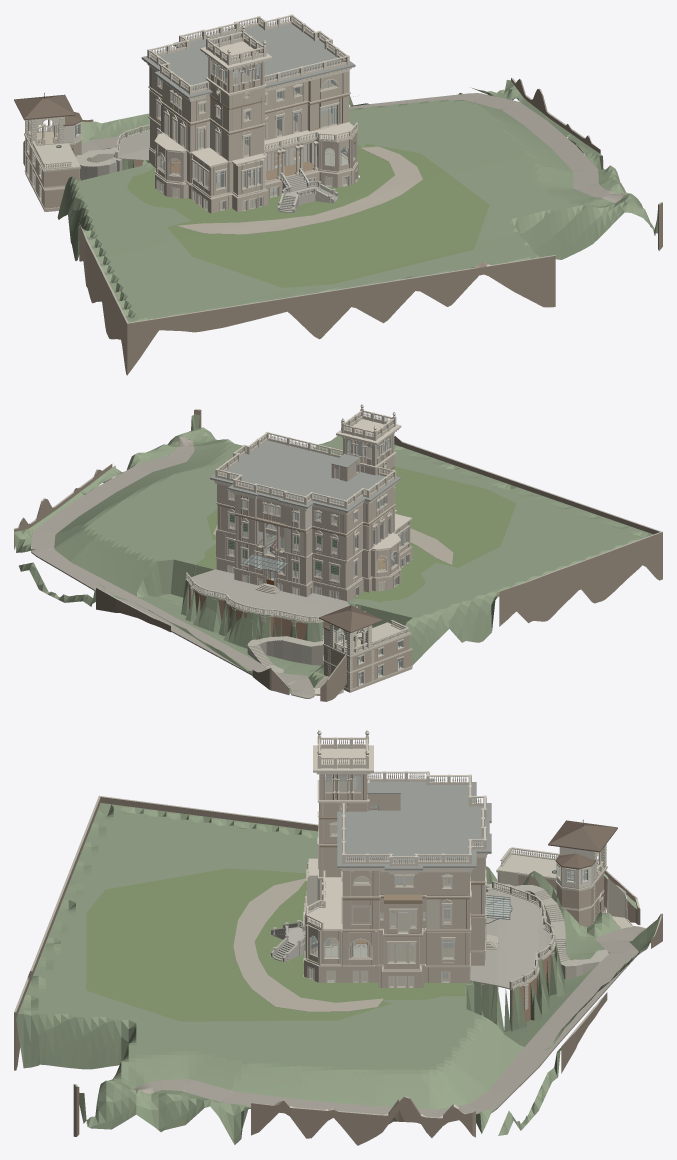
The picture shows the model from 3 angles, top to bottom: view 1: azimuth 30°, elevation 25°; view 2: azimuth 150°, elevation 25°; view 3: azimuth 270°, elevation 25°; orthographic projection. The views are drawn at different scales.
Visible parts, largest first — view 1: villa-maraini-v010-site-bounded-site-ground, villa-maraini-v008-site-lawn-and-side-ground, villa-maraini-v010-site-perimeter-retaining-wall, villa-maraini-main-roof, villa-maraini-v010-site-gate-cadore-carriageway, villa-maraini-site-agea2020-visible-garden-path, villa-maraini-portineria-main-hipped-roof, villa-maraini-v010-site-east-winding-stair-supported-core, villa-maraini-p4-terrace-4, villa-maraini-portineria-pt1-clean-exterior-wall-body, villa-maraini-portineria-pt2-terrace-with-rooflight, villa-maraini-v008-site-entrance-court (+5 smaller); view 2: villa-maraini-v010-site-bounded-site-ground, villa-maraini-v010-site-perimeter-retaining-wall, villa-maraini-v008-site-lawn-and-side-ground, villa-maraini-v010-site-gate-cadore-carriageway, villa-maraini-main-roof, villa-maraini-v008-site-entrance-court, villa-maraini-v010-site-east-winding-stair-supported-core, villa-maraini-portineria-pt0-clean-exterior-wall-body, villa-maraini-portineria-pt1-clean-exterior-wall-body, villa-maraini-v008-site-east-primary-retaining-wall, villa-maraini-portineria-main-hipped-roof, villa-maraini-site-agea2020-visible-garden-path (+3 smaller); view 3: villa-maraini-v010-site-bounded-site-ground, villa-maraini-v008-site-lawn-and-side-ground, villa-maraini-main-roof, villa-maraini-v010-site-perimeter-retaining-wall, villa-maraini-v010-site-gate-cadore-carriageway, villa-maraini-v008-site-entrance-court, villa-maraini-site-agea2020-visible-garden-path, villa-maraini-v010-site-east-winding-stair-supported-core, villa-maraini-portineria-main-hipped-roof, villa-maraini-p4-terrace-4, villa-maraini-portineria-pt1-clean-exterior-wall-body, villa-maraini-tower-roof (+6 smaller).
Boxes of the visible parts, x1,y1,x2,y2 form: villa-maraini-v010-site-bounded-site-ground: [57, 80, 657, 322]; villa-maraini-v008-site-lawn-and-side-ground: [127, 143, 489, 287]; villa-maraini-v010-site-perimeter-retaining-wall: [23, 77, 662, 375]; villa-maraini-main-roof: [141, 21, 355, 98]; villa-maraini-v010-site-gate-cadore-carriageway: [81, 93, 625, 202]; villa-maraini-site-agea2020-visible-garden-path: [176, 146, 422, 234]; villa-maraini-portineria-main-hipped-roof: [14, 94, 75, 120]; villa-maraini-v010-site-east-winding-stair-supported-core: [76, 147, 116, 180]; villa-maraini-p4-terrace-4: [264, 122, 357, 151]; villa-maraini-portineria-pt1-clean-exterior-wall-body: [25, 135, 81, 187]; villa-maraini-portineria-pt2-terrace-with-rooflight: [34, 143, 79, 169]; villa-maraini-v008-site-entrance-court: [119, 131, 149, 160]; villa-maraini-v010-site-bounded-site-ground: [14, 414, 653, 698]; villa-maraini-v010-site-perimeter-retaining-wall: [14, 409, 662, 701]; villa-maraini-v008-site-lawn-and-side-ground: [195, 466, 516, 602]; villa-maraini-v010-site-gate-cadore-carriageway: [31, 436, 314, 698]; villa-maraini-main-roof: [210, 440, 401, 512]; villa-maraini-v008-site-entrance-court: [189, 569, 349, 620]; villa-maraini-v010-site-east-winding-stair-supported-core: [247, 611, 372, 673]; villa-maraini-portineria-pt0-clean-exterior-wall-body: [323, 648, 412, 690]; villa-maraini-portineria-pt1-clean-exterior-wall-body: [323, 635, 409, 670]; villa-maraini-v008-site-east-primary-retaining-wall: [188, 584, 307, 639]; villa-maraini-portineria-main-hipped-roof: [319, 605, 382, 632]; villa-maraini-site-agea2020-visible-garden-path: [213, 524, 453, 565]; villa-maraini-v010-site-bounded-site-ground: [16, 803, 659, 1144]; villa-maraini-v008-site-lawn-and-side-ground: [86, 868, 467, 1021]; villa-maraini-main-roof: [337, 778, 491, 870]; villa-maraini-v010-site-perimeter-retaining-wall: [14, 796, 662, 1145]; villa-maraini-v010-site-gate-cadore-carriageway: [133, 926, 645, 1117]; villa-maraini-v008-site-entrance-court: [470, 889, 551, 989]; villa-maraini-site-agea2020-visible-garden-path: [233, 878, 383, 1011]; villa-maraini-v010-site-east-winding-stair-supported-core: [486, 883, 609, 979]; villa-maraini-portineria-main-hipped-roof: [548, 820, 617, 852]; villa-maraini-p4-terrace-4: [306, 877, 342, 930]; villa-maraini-portineria-pt1-clean-exterior-wall-body: [497, 872, 603, 908]; villa-maraini-tower-roof: [313, 745, 373, 771].
Bounding box in the file's own units: 106 × 37.99 × 95.03.
